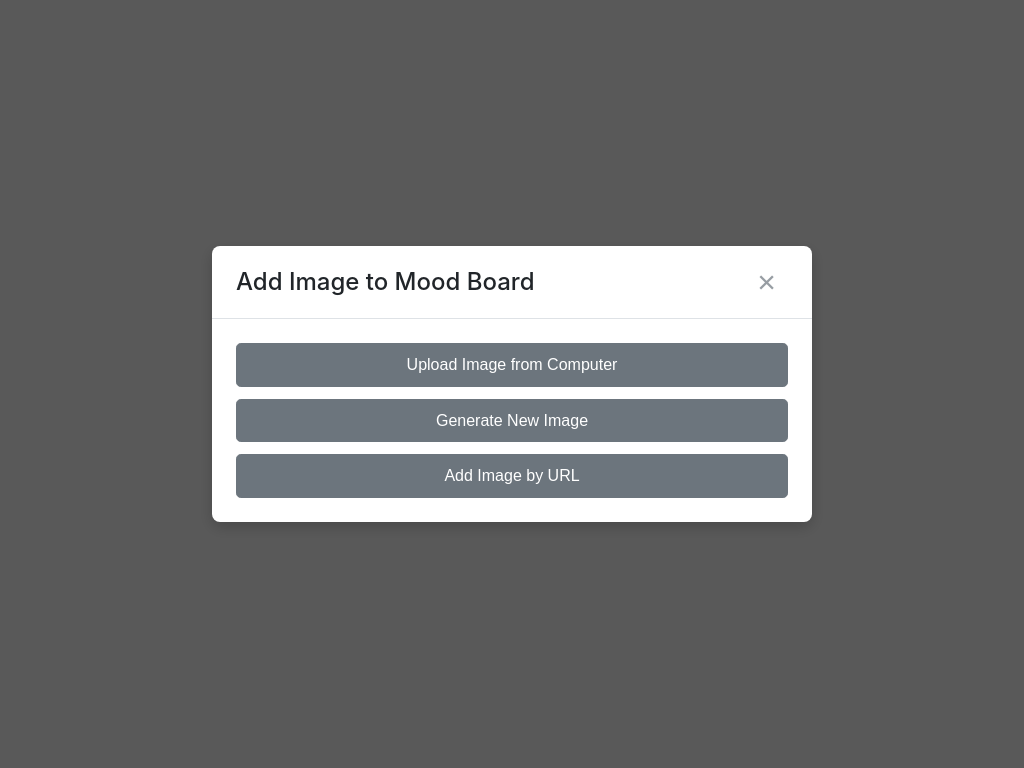
Test: AddMoodBoardImageModal › "Add Image by URL" flow › validates URL and shows error for invalid URL
Click the button "Add Image by URL": (512, 476) [236,454,788,498]
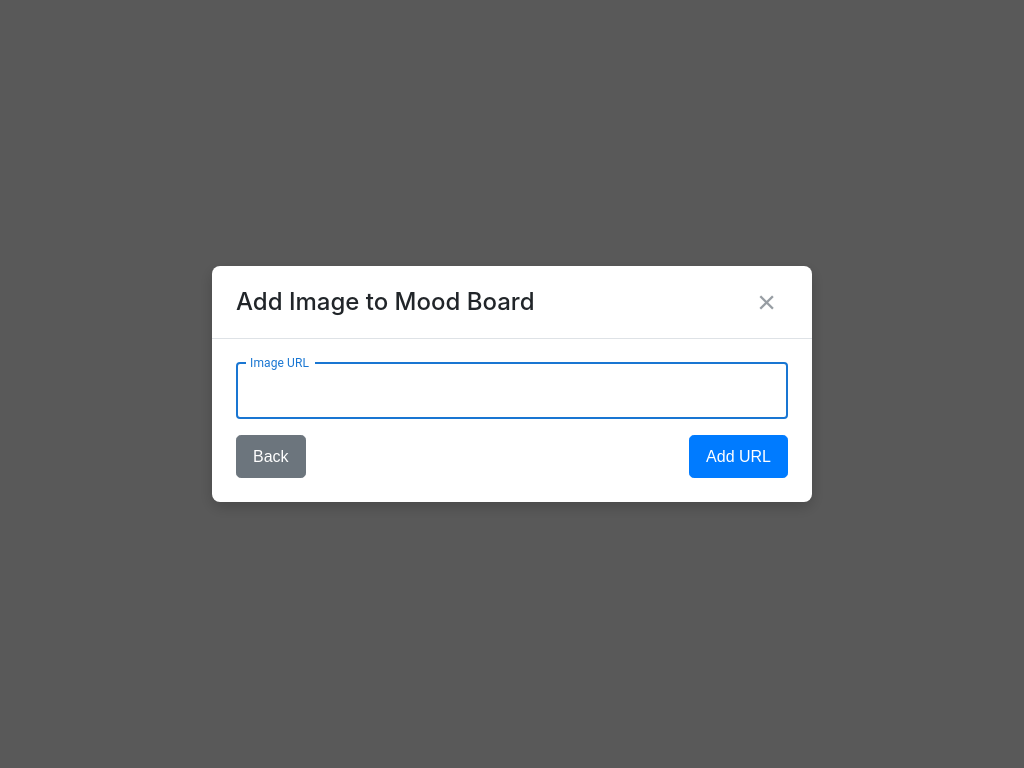
In the field labelled "Image URL": (512, 391) [236,363,788,419], type "invalid-url"
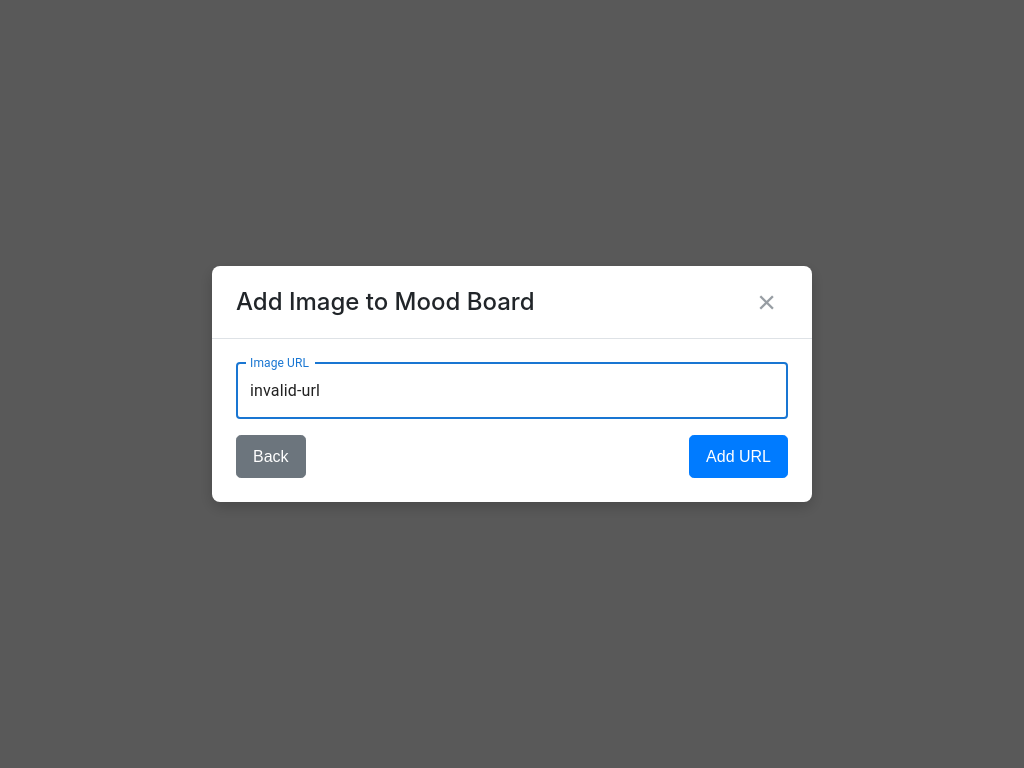
Click the button "Add URL": (739, 456) [689,435,788,478]
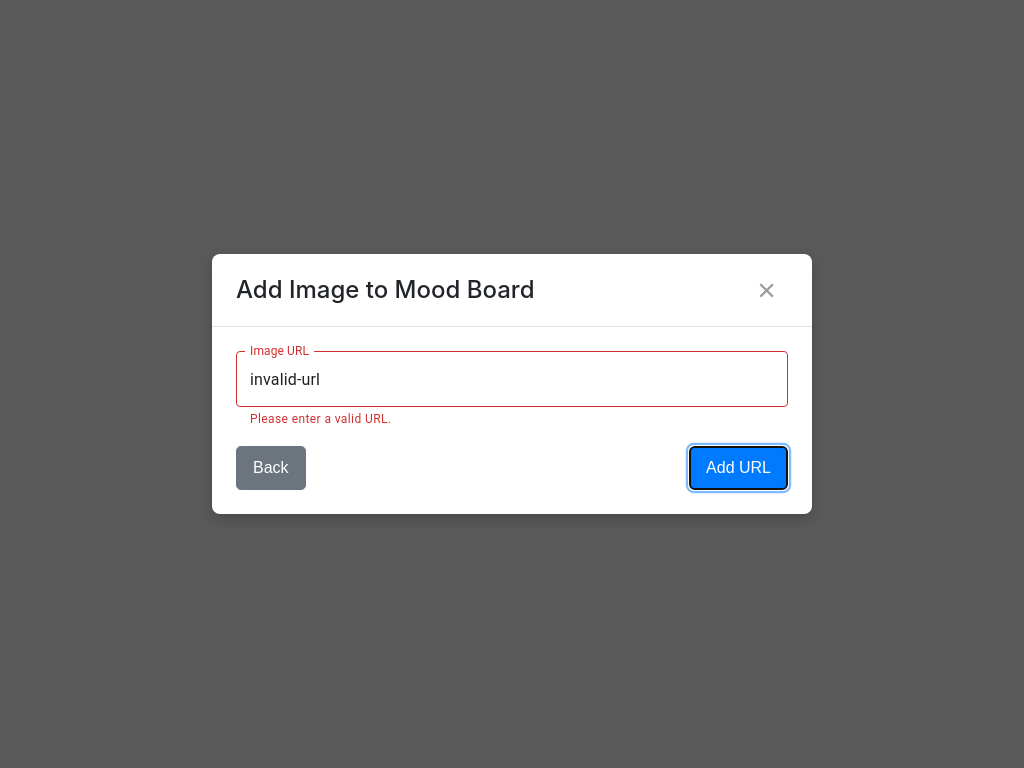
Expected: the text "Please enter a valid URL." is shown, [250,412,391,426]
